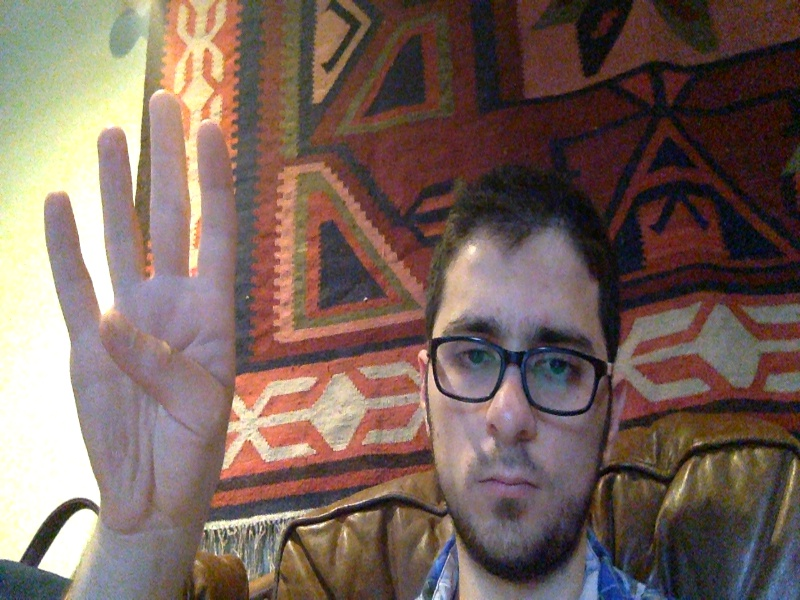4-hand: (43, 92, 236, 544)
